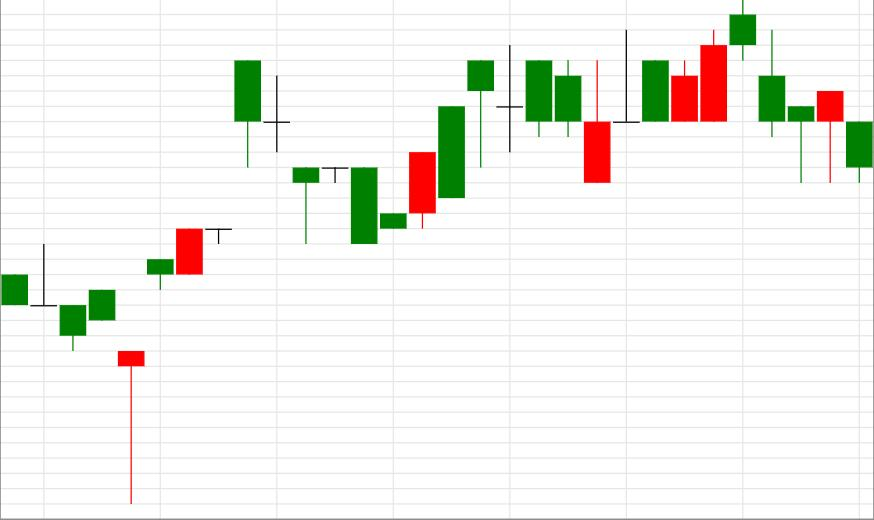hanging_man_fall: (352, 60, 494, 244)
